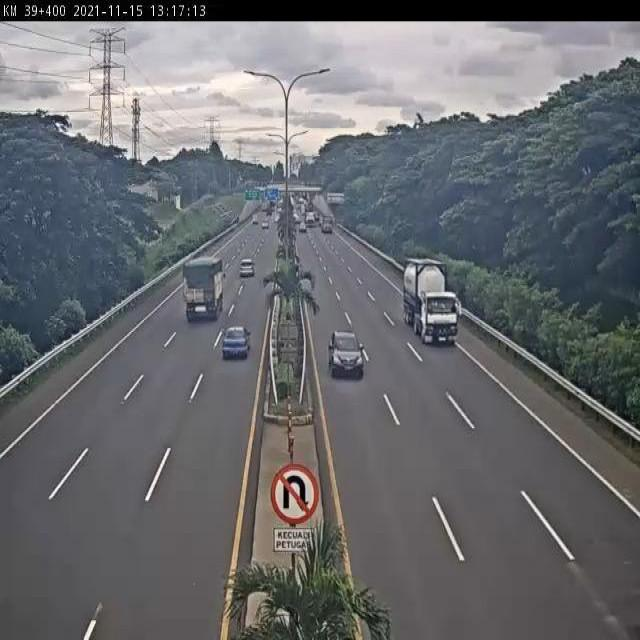car: (327, 329, 365, 380), (221, 324, 251, 363), (238, 255, 257, 280)
truck-l-: (182, 253, 225, 324)
truck-xl-: (402, 256, 460, 347)
